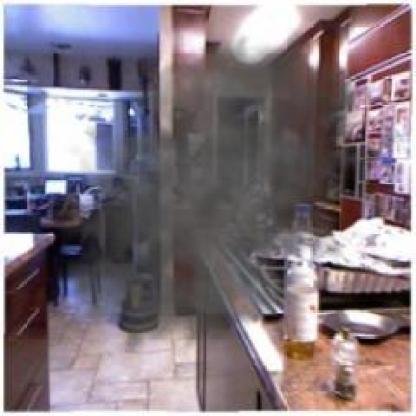Smoke: (47, 8, 385, 377)
